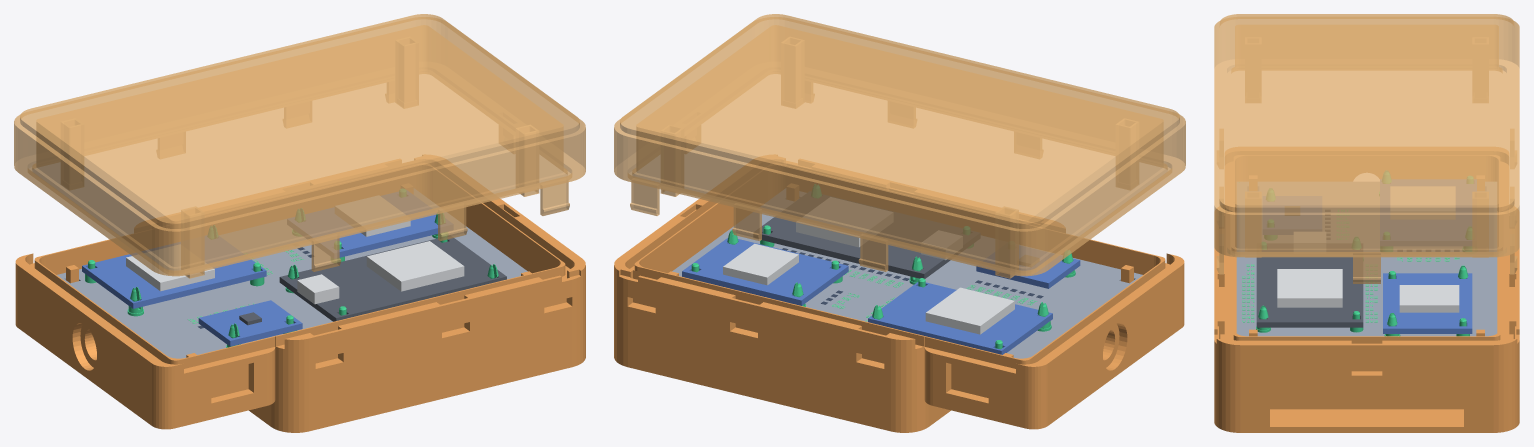
File: SIMULACION_1_PLACA_ENCAJADA_EN_CAPSULA.glb
The picture shows the model from 3 angles, left to right: view 1: azimuth 30°, elevation 25°; view 2: azimuth 150°, elevation 25°; view 3: azimuth 270°, elevation 25°; orthographic projection. The views are drawn at different scales.
Visible parts, largest first — view 1: Tapa_Solar_Flotando, Capsula_Base_ASA, Baquelita_PETG_Gris, Modulos_PCB_Azul, Blindajes_RF_Plata, Modulo_ESP32_Negro, Soportes_Ganchos_Y_Palitos_Verde; view 2: Tapa_Solar_Flotando, Capsula_Base_ASA, Baquelita_PETG_Gris, Modulos_PCB_Azul, Blindajes_RF_Plata, Modulo_ESP32_Negro, Soportes_Ganchos_Y_Palitos_Verde, Nombres_Pines_PETG_Verde; view 3: Tapa_Solar_Flotando, Capsula_Base_ASA, Baquelita_PETG_Gris, Modulos_PCB_Azul, Blindajes_RF_Plata, Modulo_ESP32_Negro, Soportes_Ganchos_Y_Palitos_Verde, Nombres_Pines_PETG_Verde.
Boxes of the visible parts, left/top/right/bottom form: Tapa_Solar_Flotando: left=14, top=14, right=585, bottom=278; Capsula_Base_ASA: left=15, top=155, right=585, bottom=432; Baquelita_PETG_Gris: left=57, top=189, right=527, bottom=358; Modulos_PCB_Azul: left=82, top=191, right=452, bottom=346; Blindajes_RF_Plata: left=126, top=196, right=464, bottom=304; Modulo_ESP32_Negro: left=239, top=236, right=506, bottom=325; Soportes_Ganchos_Y_Palitos_Verde: left=85, top=189, right=498, bottom=347; Tapa_Solar_Flotando: left=614, top=14, right=1185, bottom=278; Capsula_Base_ASA: left=614, top=155, right=1184, bottom=432; Baquelita_PETG_Gris: left=672, top=189, right=1142, bottom=358; Modulos_PCB_Azul: left=682, top=238, right=1080, bottom=354; Blindajes_RF_Plata: left=723, top=197, right=1014, bottom=334; Modulo_ESP32_Negro: left=754, top=192, right=1038, bottom=278; Soportes_Ganchos_Y_Palitos_Verde: left=691, top=184, right=1075, bottom=349; Nombres_Pines_PETG_Verde: left=832, top=270, right=1036, bottom=321; Tapa_Solar_Flotando: left=1214, top=14, right=1519, bottom=283; Capsula_Base_ASA: left=1214, top=147, right=1519, bottom=432; Baquelita_PETG_Gris: left=1236, top=182, right=1497, bottom=336; Modulos_PCB_Azul: left=1263, top=180, right=1476, bottom=333; Blindajes_RF_Plata: left=1277, top=187, right=1459, bottom=312; Modulo_ESP32_Negro: left=1256, top=206, right=1363, bottom=327; Soportes_Ganchos_Y_Palitos_Verde: left=1256, top=171, right=1472, bottom=336; Nombres_Pines_PETG_Verde: left=1242, top=210, right=1459, bottom=322.
Size of the model in its own units: 126 by 66 by 82.
